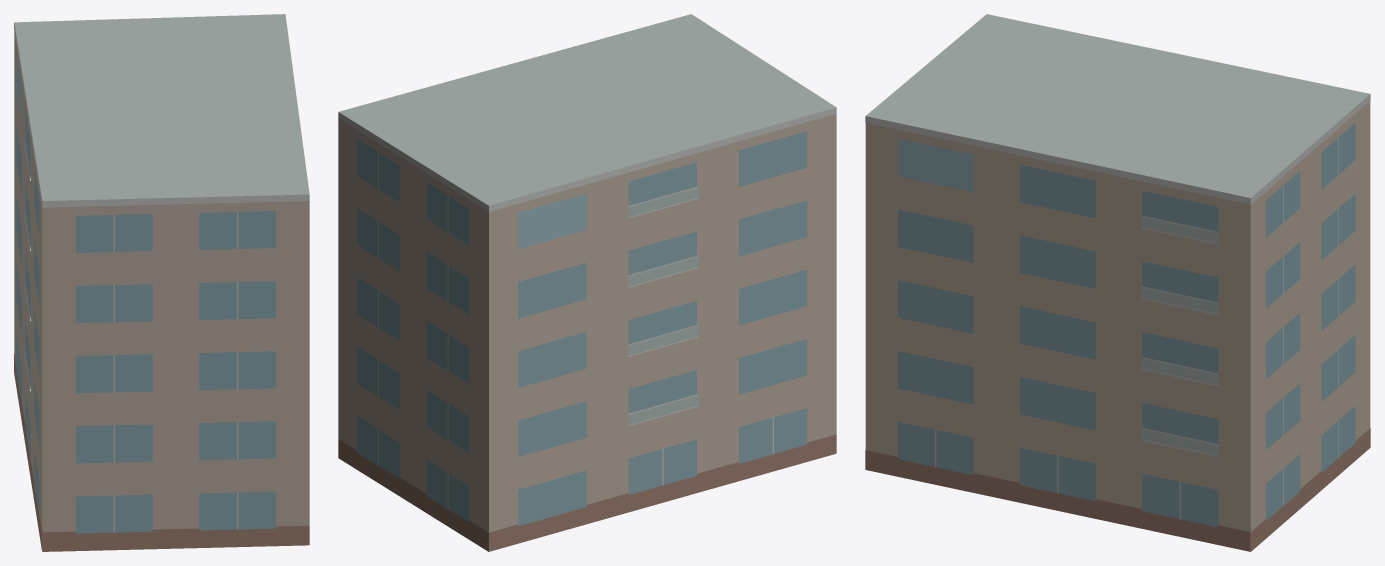
The model's file is survey-upis-32997140.glb.
The picture shows the model from 3 angles, left to right: view 1: azimuth 30°, elevation 25°; view 2: azimuth 150°, elevation 25°; view 3: azimuth 270°, elevation 25°; orthographic projection. The views are drawn at different scales.
Parts seen in each view (by area): view 1: survey-upis-32997140.tmp; view 2: survey-upis-32997140.tmp; view 3: survey-upis-32997140.tmp.
Boxes of the visible parts, x1=… form: survey-upis-32997140.tmp: x1=14, y1=14, x2=309, y2=551; survey-upis-32997140.tmp: x1=338, y1=14, x2=836, y2=551; survey-upis-32997140.tmp: x1=865, y1=14, x2=1370, y2=551.
Size of the model in its own units: 14.74 by 13.2 by 17.09.
